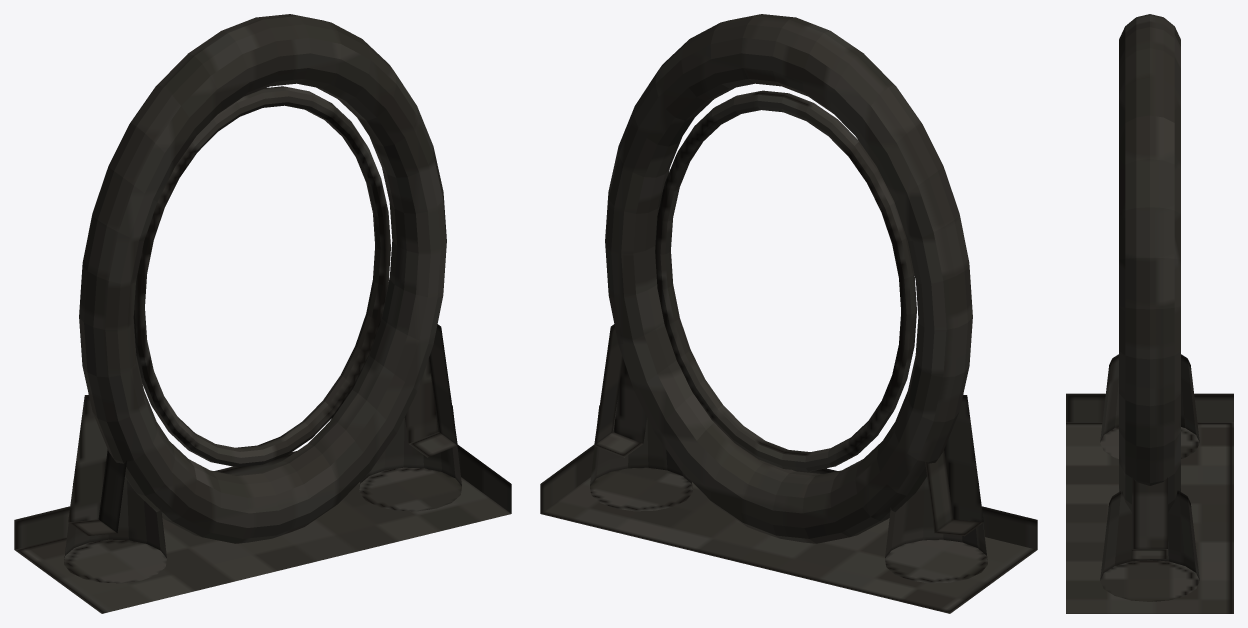
File: portal_frame.obj
3 views of the same model, side by side, from view 1: azimuth 30°, elevation 25°; view 2: azimuth 150°, elevation 25°; view 3: azimuth 270°, elevation 25° (orthographic). The views are drawn at different scales.
Size of the model in its own units: 2 by 2.42 by 0.74.
Materials: 1 (1 with a texture image).
